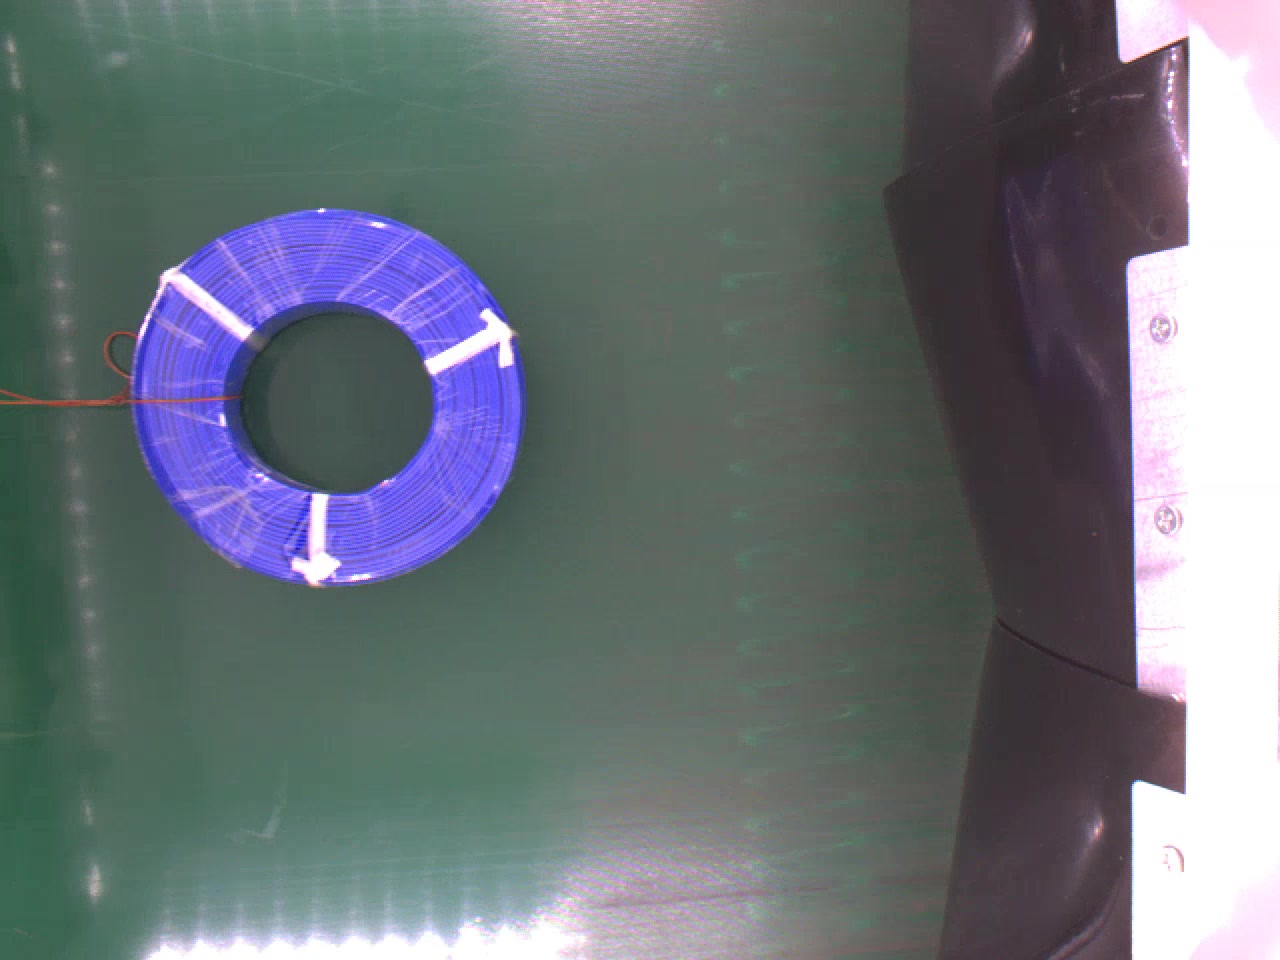blue: (128, 206, 518, 585)
